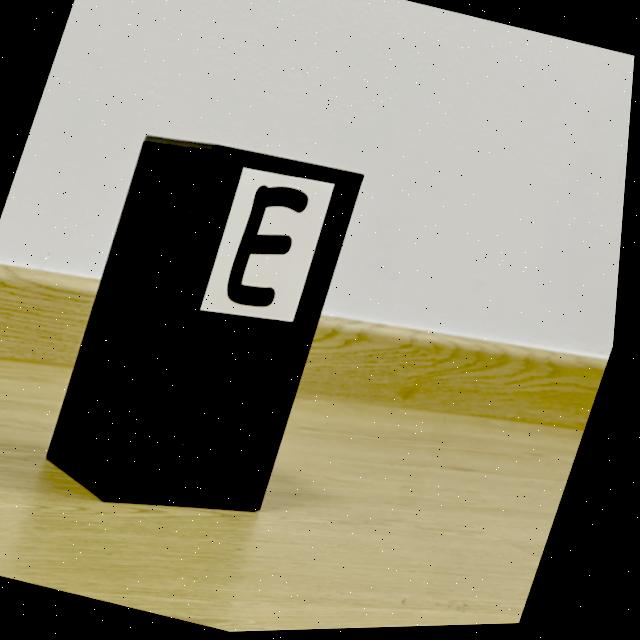E: (231, 186, 311, 309)
